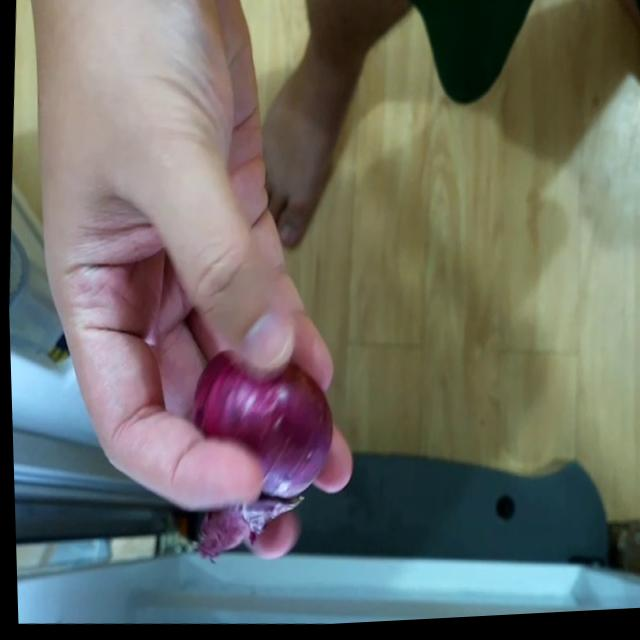onion: (183, 349, 337, 565)
